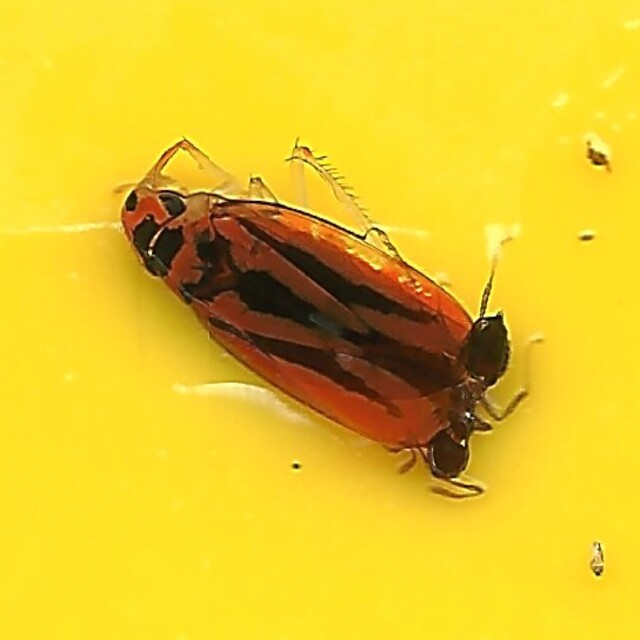Hemiptera: (118, 135, 473, 453)
Hymenoptera: (405, 299, 522, 505)
